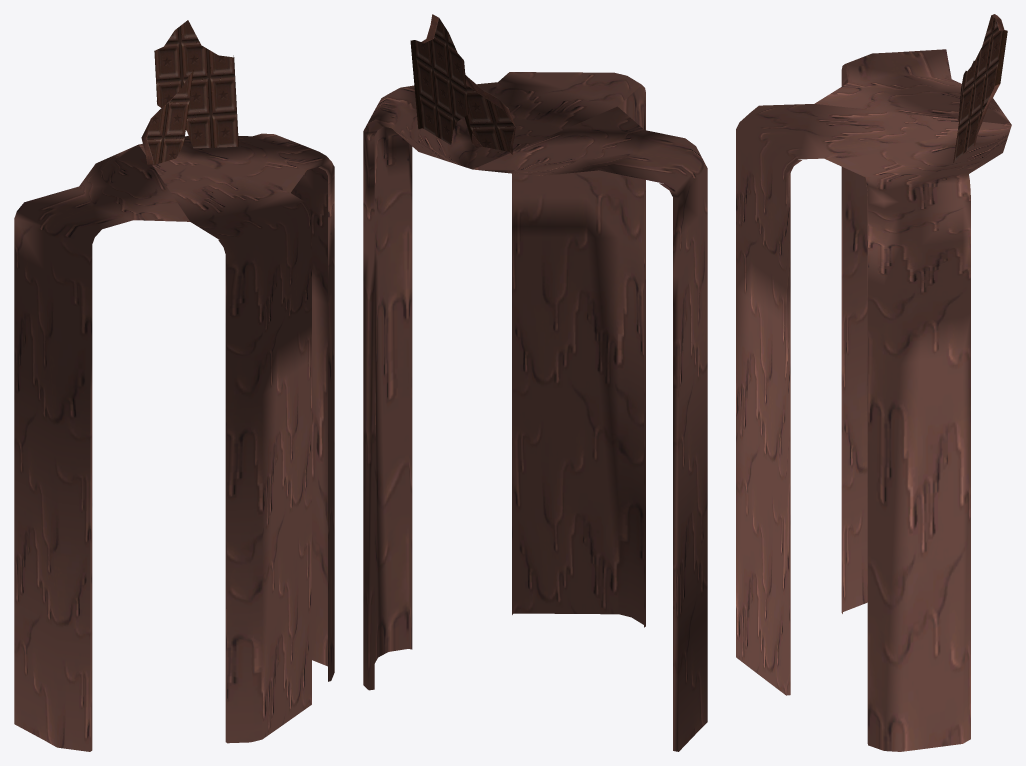
Rendered from MotChoco.obj.
The picture shows the model from 3 angles, left to right: view 1: azimuth 30°, elevation 25°; view 2: azimuth 150°, elevation 25°; view 3: azimuth 270°, elevation 25°; orthographic projection. The views are drawn at different scales.
Parts seen in each view (by area): view 1: polygon2, polygon1; view 2: polygon2, polygon1, polygon0; view 3: polygon2, polygon1, polygon0.
Boxes of the visible parts, left/top/right/bottom form: polygon2: left=14, top=133, right=334, bottom=751; polygon1: left=147, top=20, right=238, bottom=164; polygon2: left=363, top=72, right=707, bottom=751; polygon1: left=415, top=18, right=514, bottom=151; polygon0: left=410, top=14, right=515, bottom=154; polygon2: left=736, top=49, right=1011, bottom=751; polygon1: left=953, top=15, right=1002, bottom=162; polygon0: left=973, top=14, right=1007, bottom=147.
Size of the model in its own units: 40 by 83.48 by 30.28.
3 materials, 3 textured.
